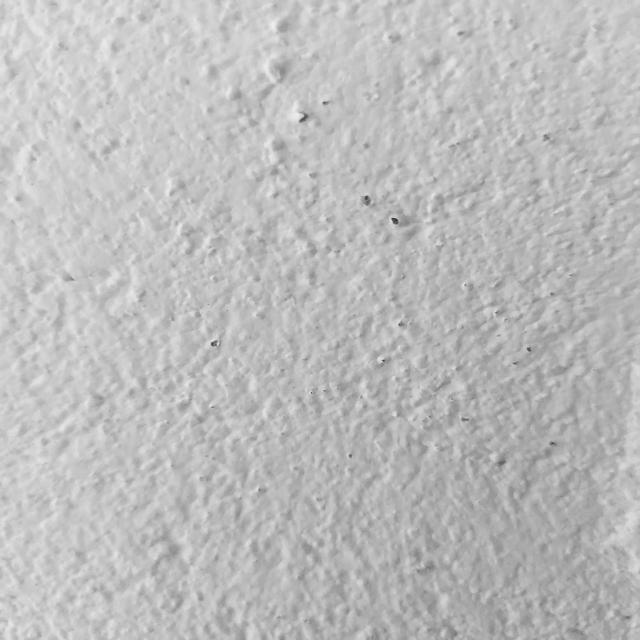rough and patchy surface: (6, 4, 636, 637)
